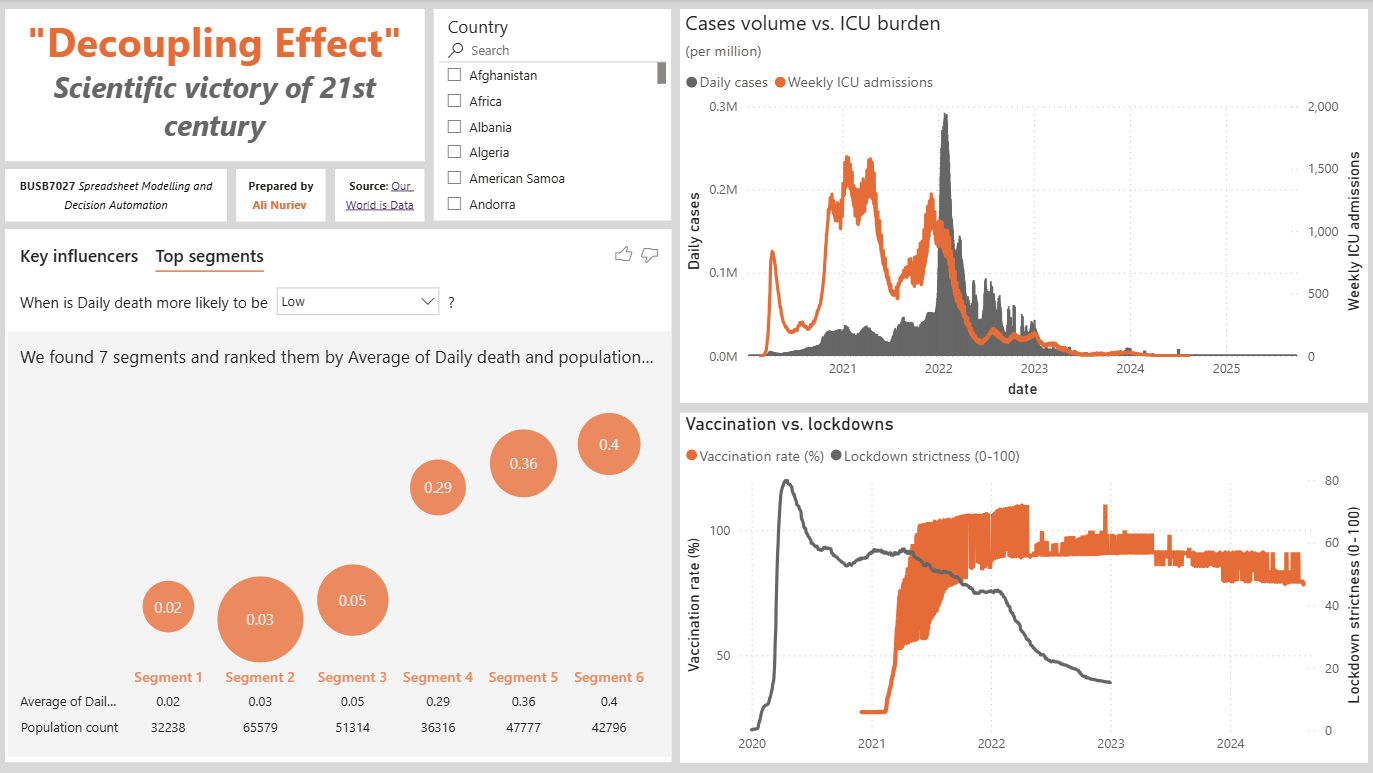

What the dashboard file says about the page in this screenshot:
{"tool":"powerbi","page":{"name":"3. Impact Analysis","canvas":[1280,720],"ordinal":3},"visuals":[{"type":"keyDriversVisual","fields":{"Target":["compact.new_deaths_smoothed_per_million"],"ExplainBy":["Avg(compact.people_fully_vaccinated_per_hundred)","Avg(compact.stringency_index)","Avg(compact.gdp_per_capita)","Avg(compact.median_age)"]},"box":[4.5,214,619.7,496.1],"z":0},{"type":"lineChart","title":"Vaccination vs. lockdowns ","fields":{"Y":["Max(compact.people_fully_vaccinated_per_hundred)"],"Category":["compact.date"],"Y2":["Avg(compact.stringency_index)"]},"box":[632.7,384.5,640,325.5],"z":1000},{"type":"lineStackedColumnComboChart","title":"Cases volume vs. ICU burden","fields":{"Category":["compact.date"],"Y":["Sum(compact.new_cases_smoothed_per_million)"],"Y2":["Sum(compact.icu_patients_per_million)"]},"box":[632.2,8.9,640,366.7],"z":2000},{"type":"slicer","fields":{"Values":["compact.country"]},"box":[403.3,8.9,221.1,196.7],"z":3000},{"type":"textbox","box":[5,8.8,390,141.2],"z":4000},{"type":"textbox","box":[4.4,157.8,206.7,48.9],"z":5000},{"type":"textbox","box":[311.4,157.9,83.6,48.6],"z":6000},{"type":"textbox","box":[220,157.6,83.5,48.8],"z":7000}]}

Visuals, with their boxes in screenshot pixels (x1, y1, x2, y2), scaled from the page's 1280x720 canvas onto the 1373x773 screenshot:
keyDriversVisual - compact.new_deaths_smoothed_per_million x Avg(compact.people_fully_vaccinated_per_hundred): bbox=[5, 230, 670, 762]
"Vaccination vs. lockdowns " lineChart: bbox=[679, 413, 1365, 762]
"Cases volume vs. ICU burden" lineStackedColumnComboChart: bbox=[678, 10, 1365, 403]
slicer - compact.country: bbox=[433, 10, 670, 221]
textbox: bbox=[5, 9, 424, 161]
textbox: bbox=[5, 169, 226, 222]
textbox: bbox=[334, 170, 424, 222]
textbox: bbox=[236, 169, 326, 222]
